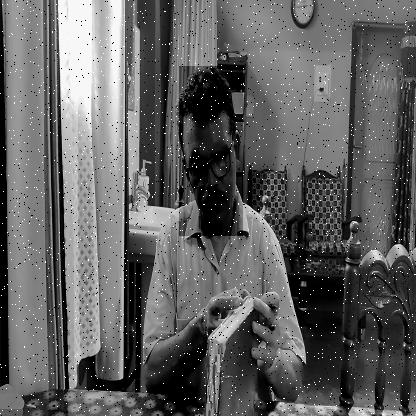Normal: (179, 66, 243, 236)
